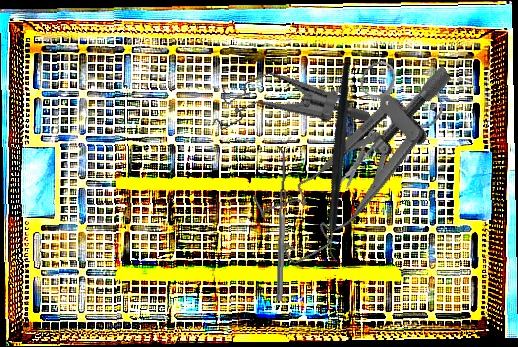Chopper: (264, 62, 420, 265)
Iris Scissors: (316, 51, 455, 190)
Spatula Surgical: (270, 145, 288, 302)
Speculum: (240, 62, 494, 269), (201, 38, 373, 180)
